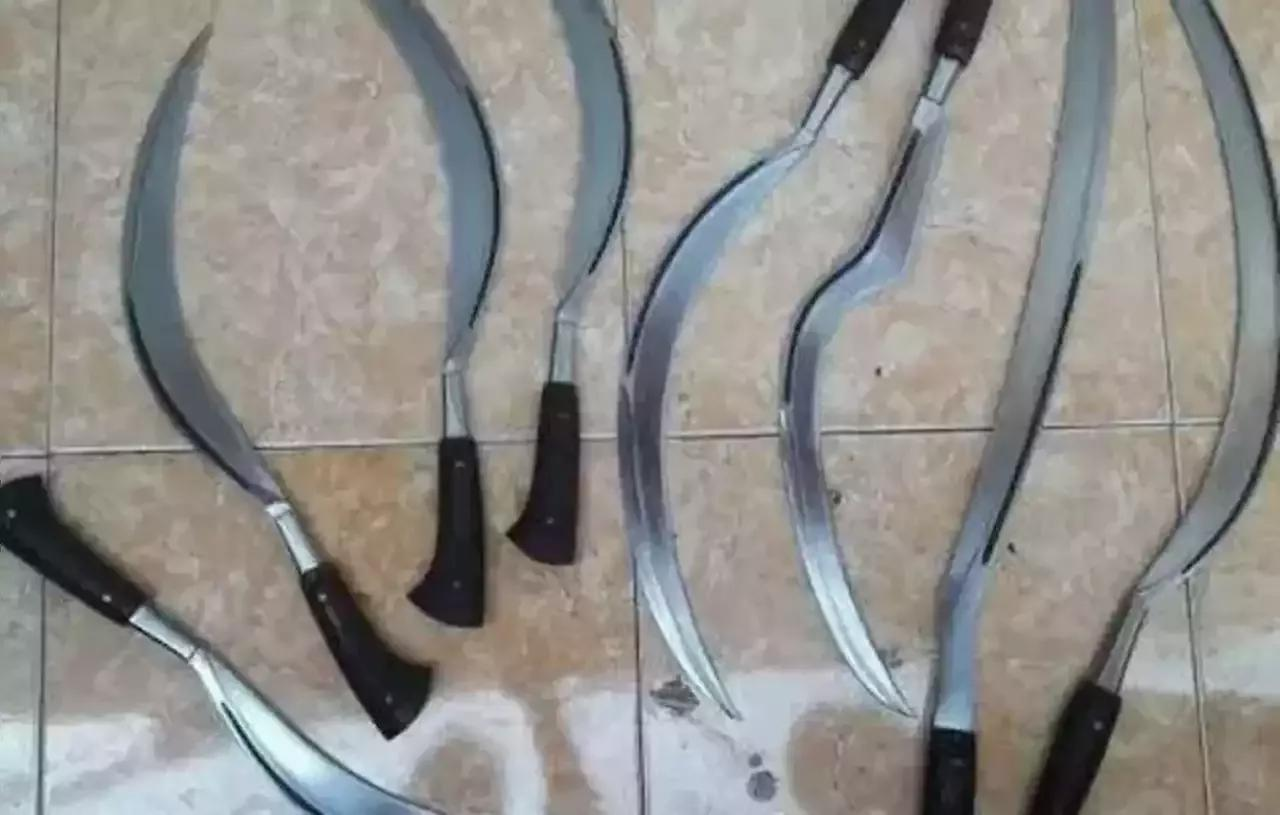foice: (124, 27, 432, 739), (1025, 0, 1279, 814), (617, 0, 905, 717), (782, 0, 992, 715), (506, 0, 630, 565), (838, 576, 907, 712)
